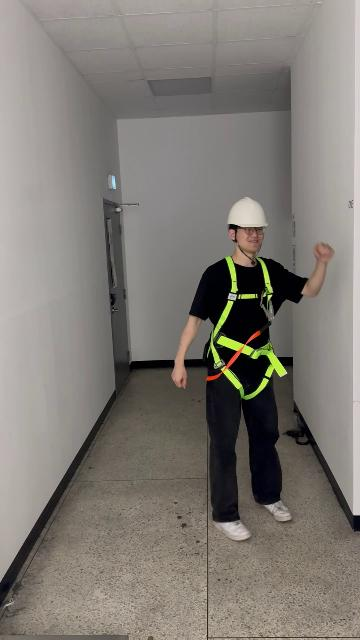helmet_worn: (226, 196, 270, 228)
shoe_not_worn: (212, 517, 252, 541), (260, 500, 291, 521)
vest_worn: (203, 258, 286, 395)
